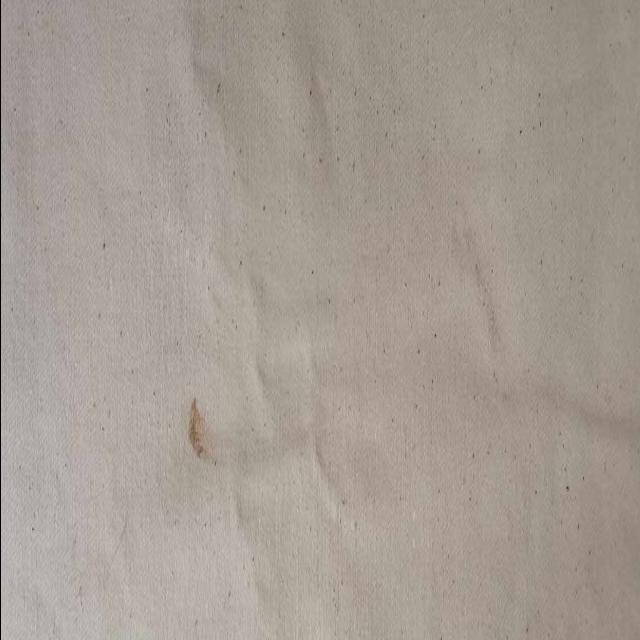taaaches: (175, 382, 221, 499)
